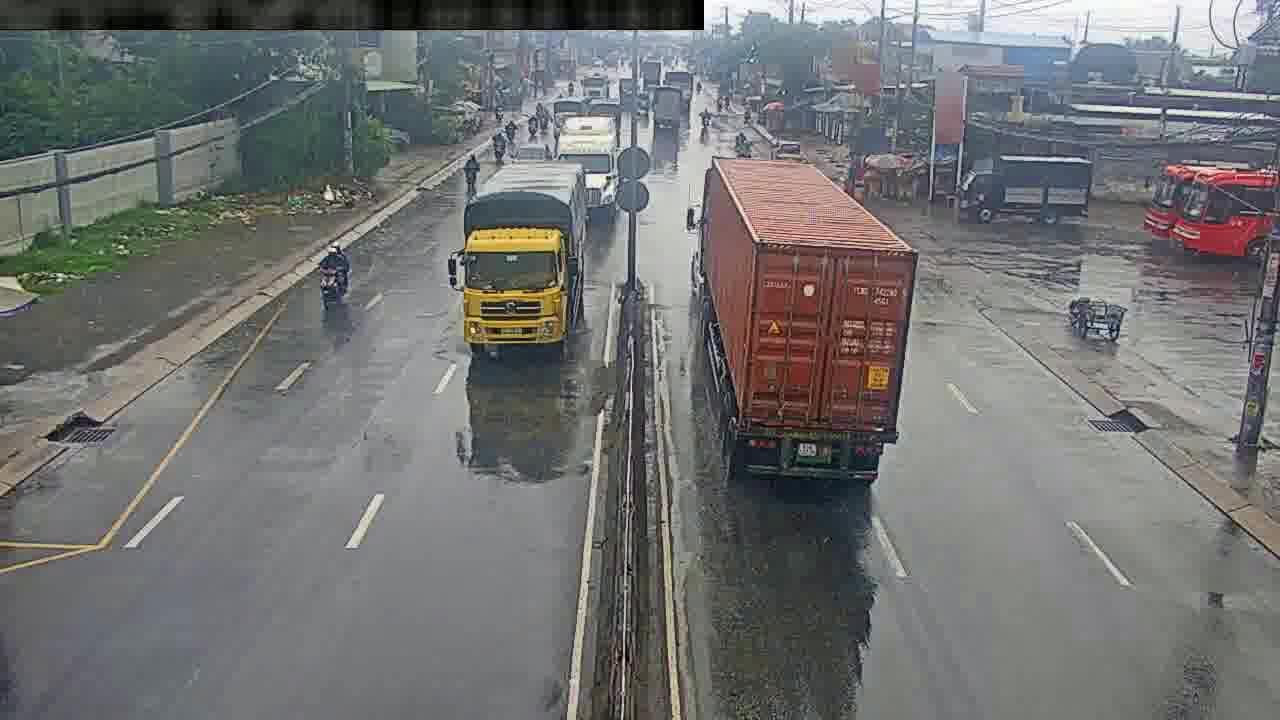8: (692, 154, 923, 476), (461, 162, 583, 346), (557, 118, 621, 211)
motorbike: (320, 240, 350, 310), (463, 152, 477, 193), (492, 126, 505, 162)
